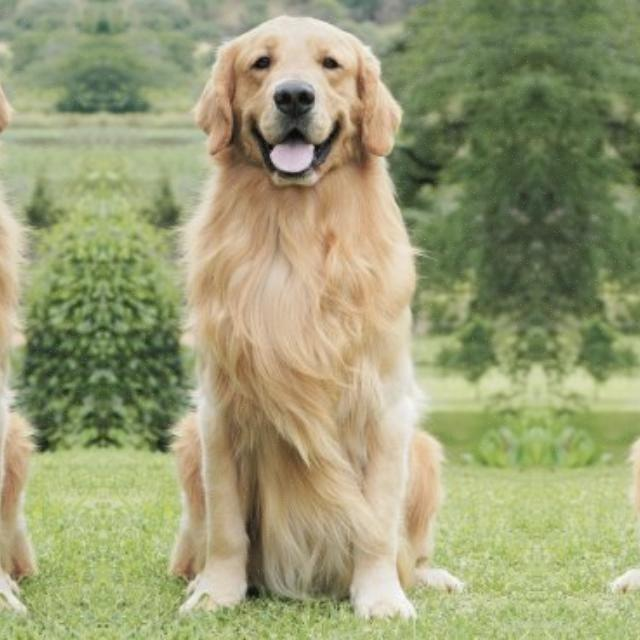dog: (142, 2, 492, 628), (0, 2, 62, 628), (582, 2, 640, 628)
